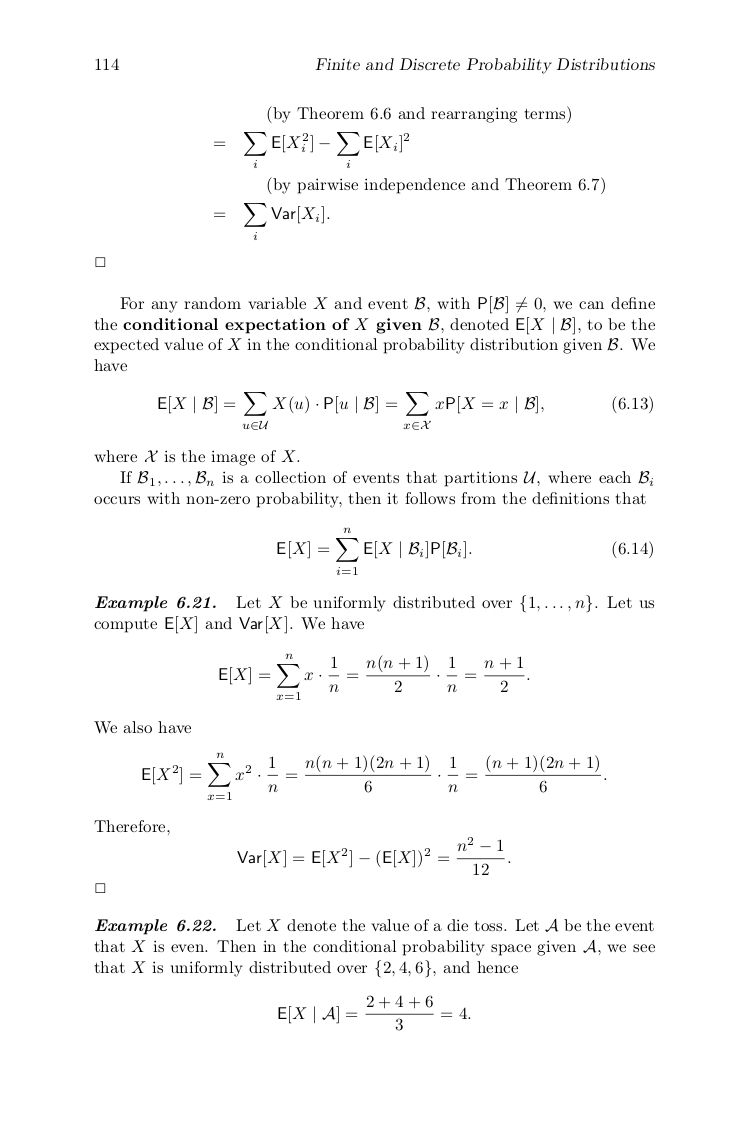formula: (142, 751, 606, 801), (158, 392, 652, 429), (277, 527, 652, 574), (219, 652, 529, 701), (237, 835, 510, 875), (278, 994, 470, 1031), (214, 132, 408, 167), (214, 203, 329, 239)
